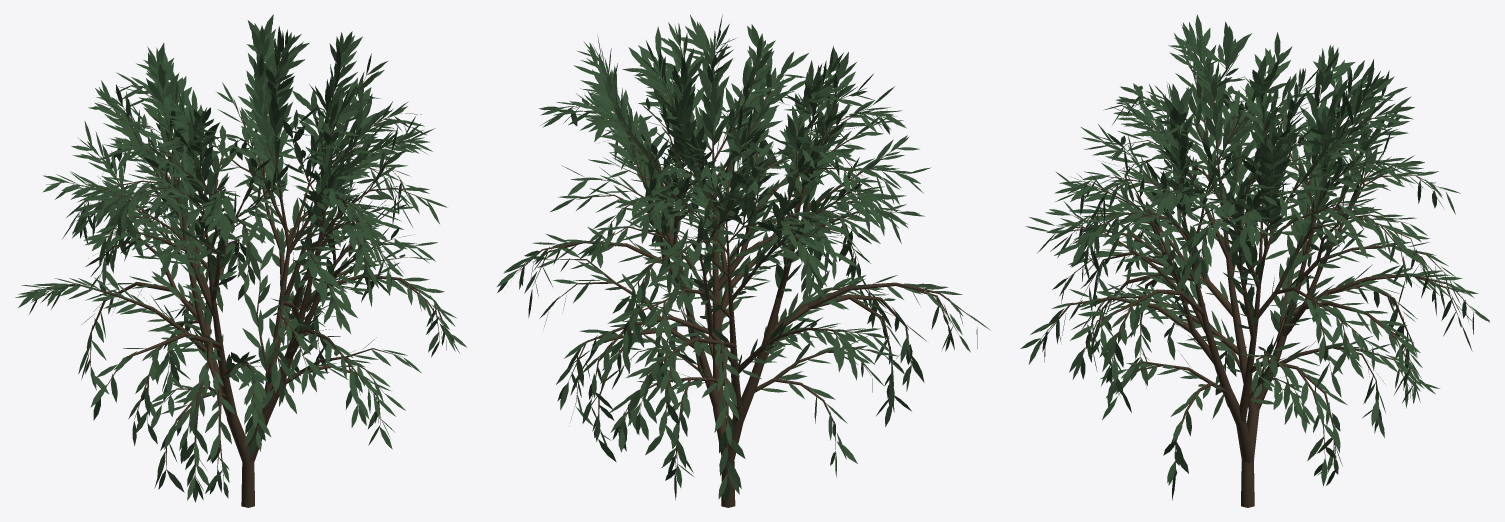
The model's file is Tree_12.fbx.
3 views of the same model, side by side, from view 1: azimuth 30°, elevation 25°; view 2: azimuth 150°, elevation 25°; view 3: azimuth 270°, elevation 25° (orthographic). The views are drawn at different scales.
Visible parts, largest first — view 1: leaves_12, Tree_12; view 2: leaves_12, Tree_12; view 3: leaves_12, Tree_12.
Part boxes in pixels (x1=…): leaves_12: x1=15, y1=14, x2=466, y2=502; Tree_12: x1=40, y1=52, x2=445, y2=507; leaves_12: x1=497, y1=14, x2=990, y2=502; Tree_12: x1=516, y1=48, x2=975, y2=507; leaves_12: x1=1020, y1=14, x2=1489, y2=500; Tree_12: x1=1041, y1=44, x2=1473, y2=507.
Size of the model in its own units: 586 by 656 by 597.
